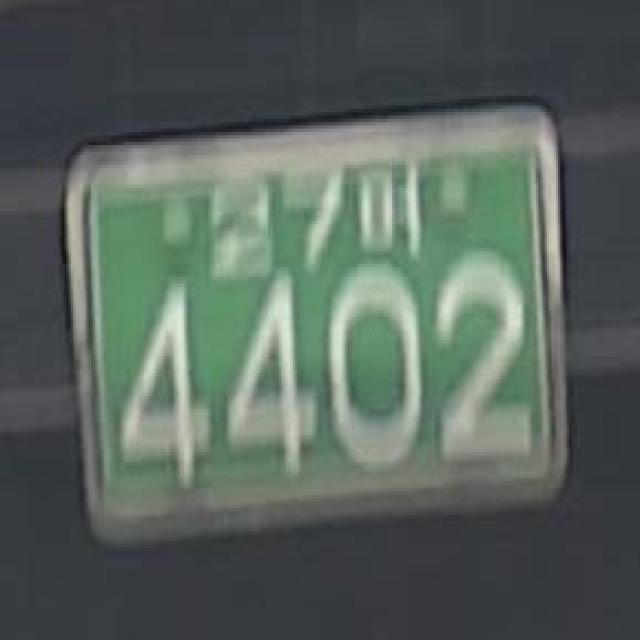illegal_plate: (63, 104, 576, 556)
